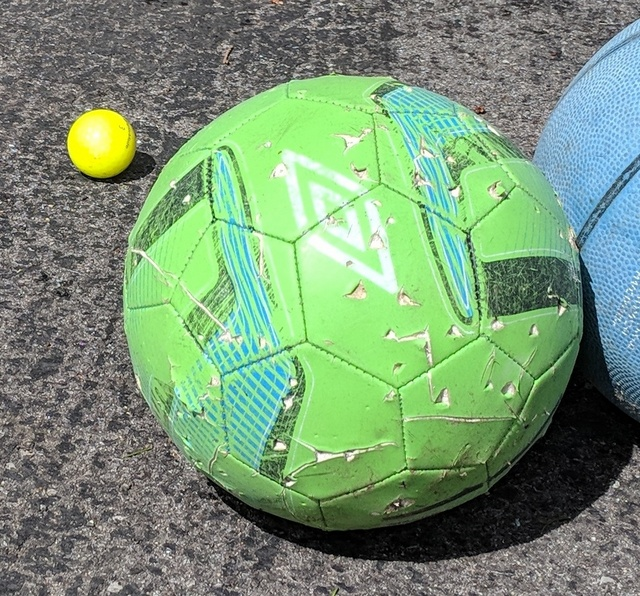ball: (121, 76, 584, 530)
